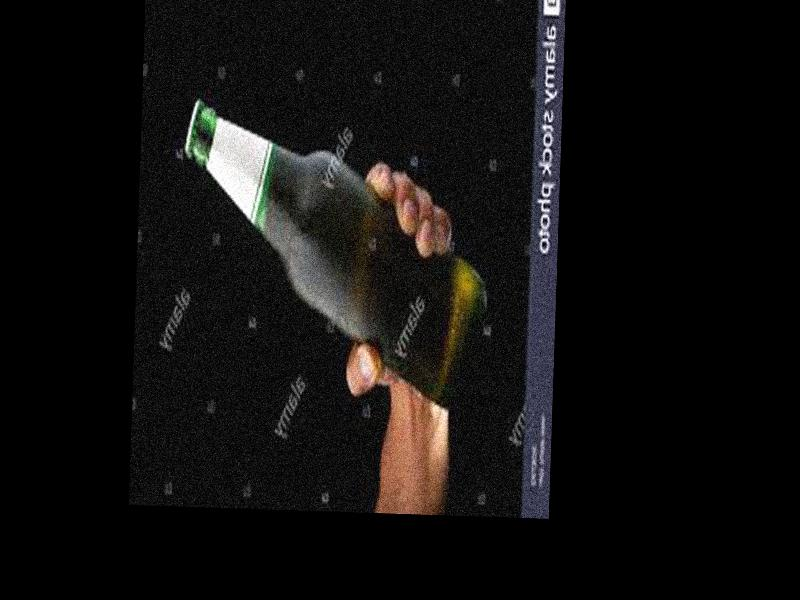Beer: (175, 95, 496, 409)
